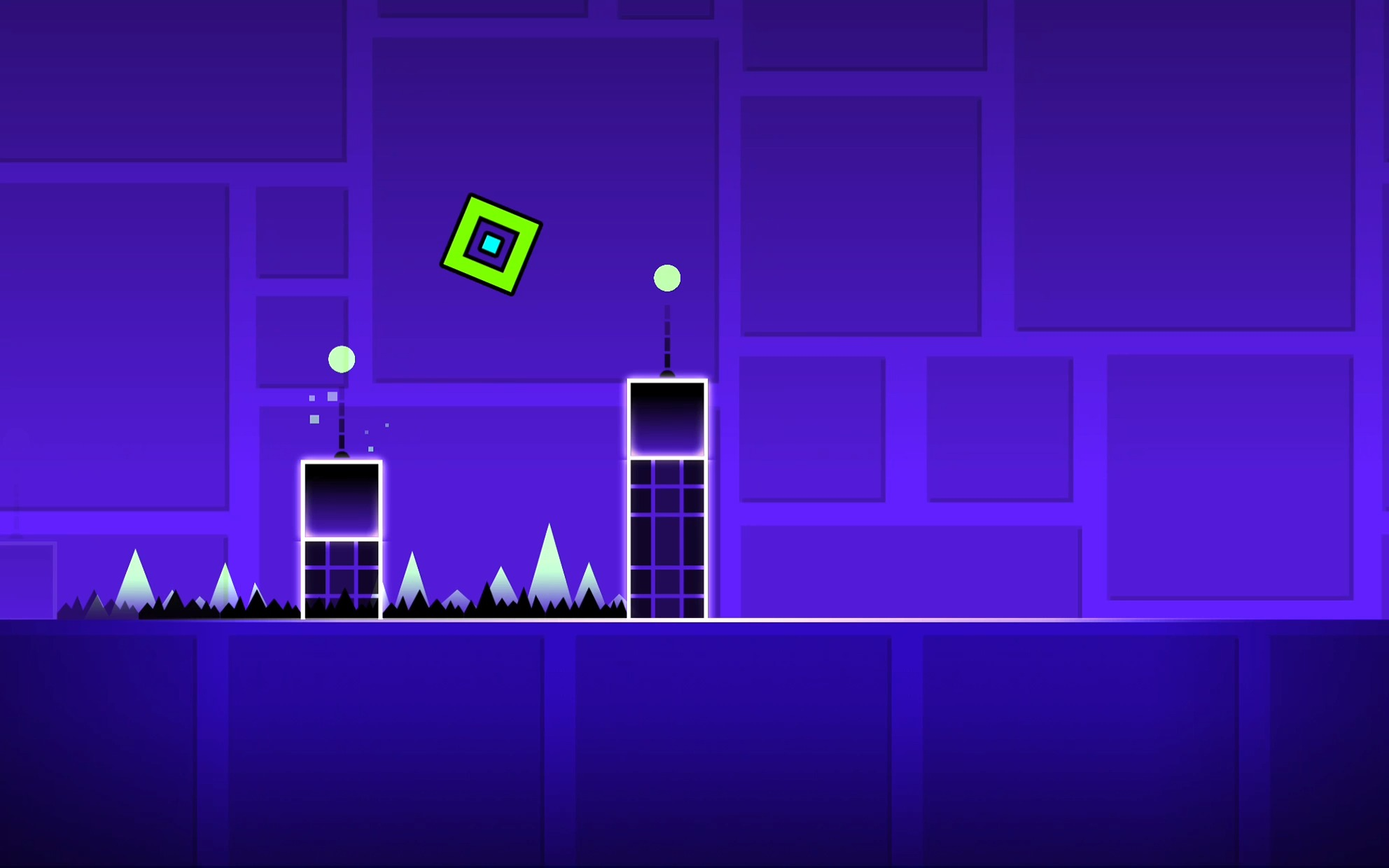Block: (302, 460, 382, 538), (629, 379, 707, 458)
Block2: (629, 458, 704, 622), (302, 540, 382, 618)
Player: (440, 194, 542, 294)
Spike3: (386, 591, 627, 622), (48, 592, 299, 620)
